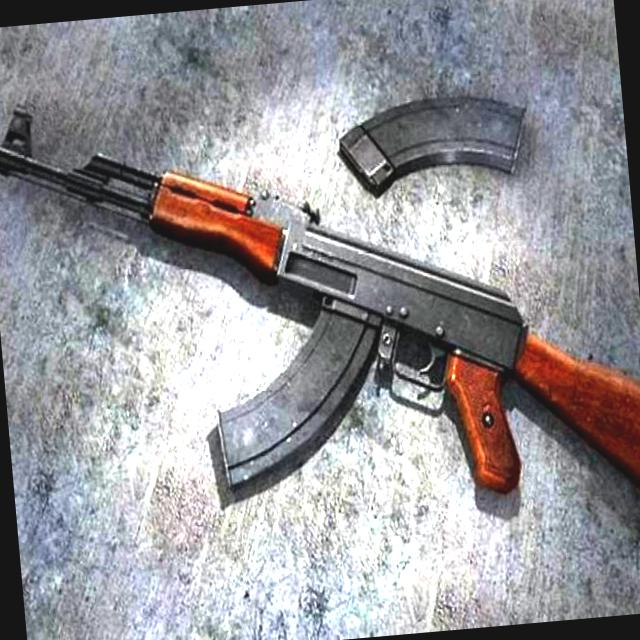ak: (0, 40, 640, 557)
